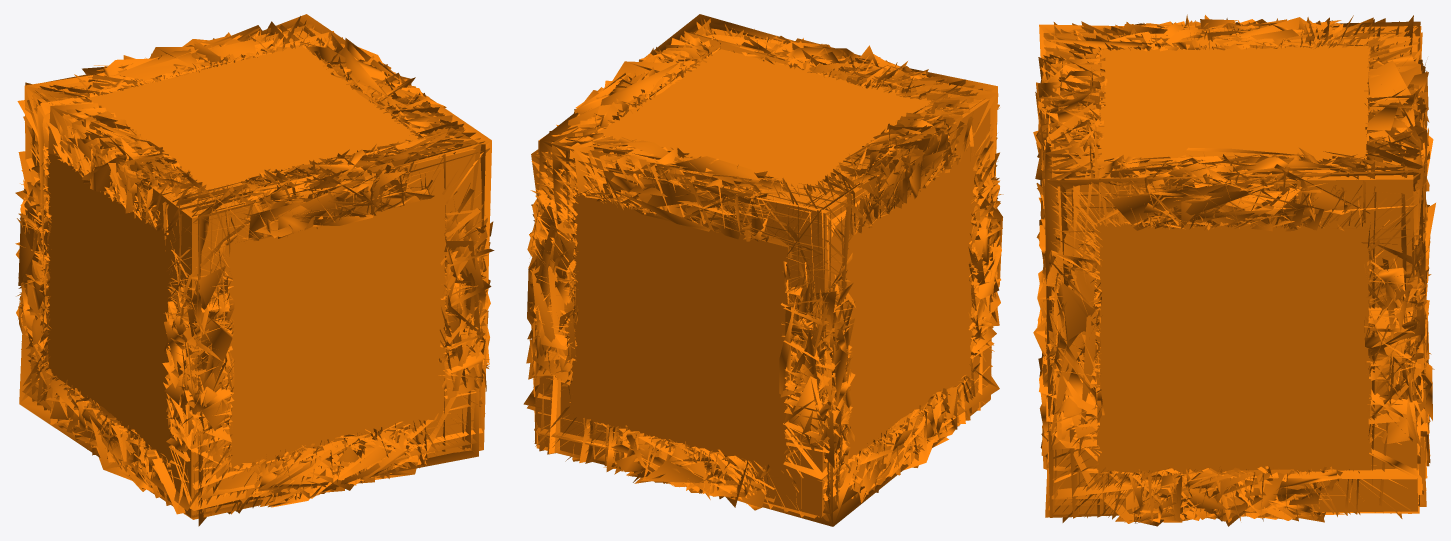
The model's file is burning_cube.glb.
3 views of the same model, side by side, from view 1: azimuth 30°, elevation 25°; view 2: azimuth 150°, elevation 25°; view 3: azimuth 270°, elevation 25° (orthographic). The views are drawn at different scales.
Visible parts, largest first — view 1: Plane.002; view 2: Plane.002; view 3: Plane.002.
Part boxes in pixels (x1,y1,x2,y2): Plane.002: (15, 14, 494, 526); Plane.002: (523, 14, 1003, 526); Plane.002: (1033, 14, 1435, 526).
Bounding box in the file's own units: 2.58 × 2.55 × 2.57.
